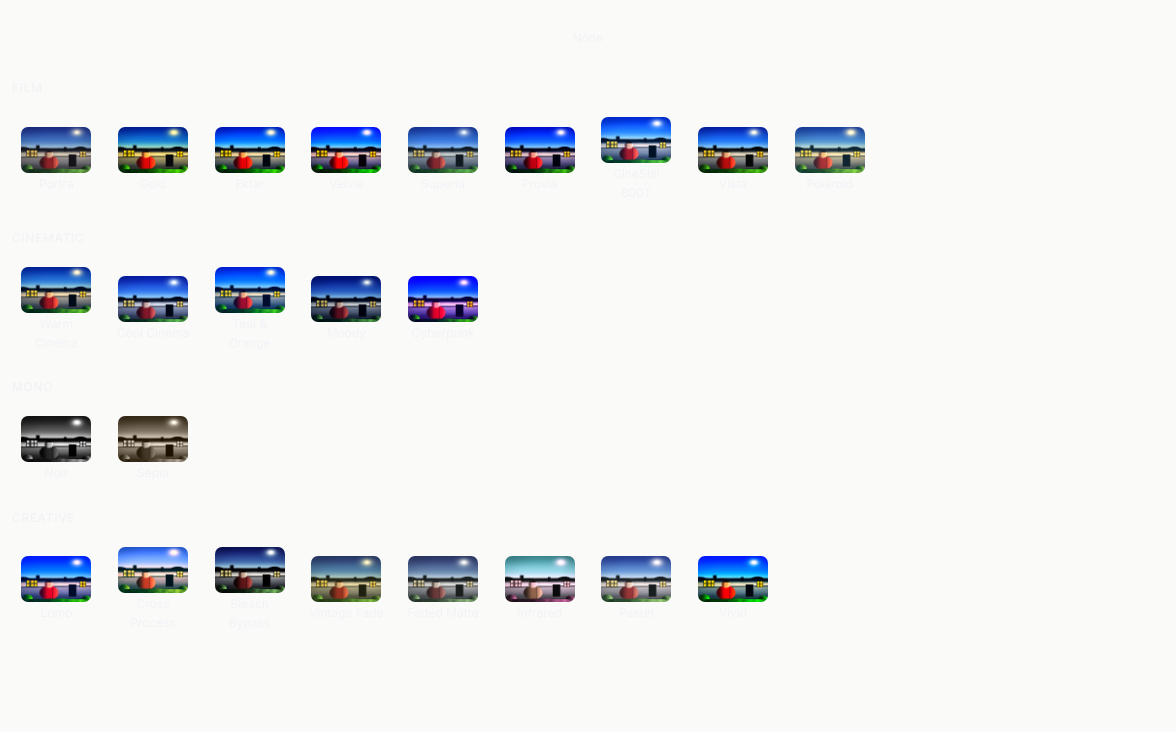
Test: FiltersPanel › says so when the LUT cannot be loaded, instead of leaving a dead chip
Click the button "Portra".
click(56, 159)  # box [12,105,101,214]
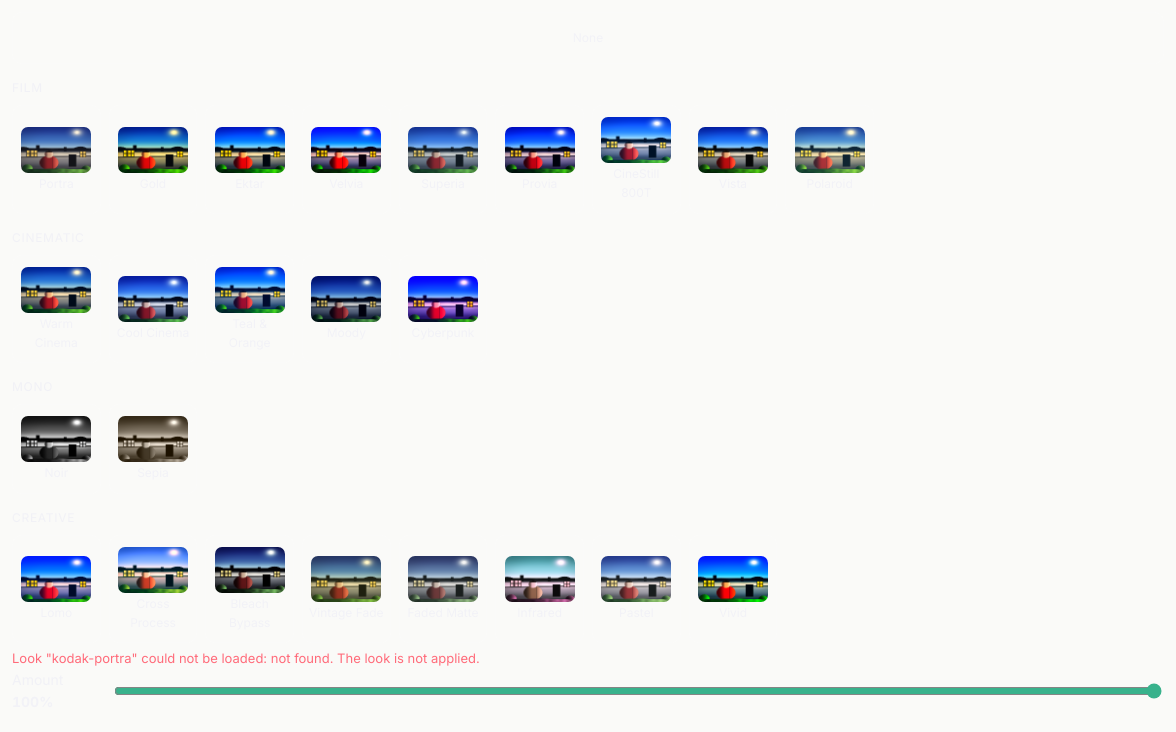
Expected: the message "Look \"kodak-portra\" could not be loaded: not found. The look is not applied." shows "Look \"kodak-portra\" could not be loaded", [12,650,480,666]
Expected: the message "Look \"kodak-portra\" could not be loaded: not found. The look is not applied." is shown, [12,650,480,666]
